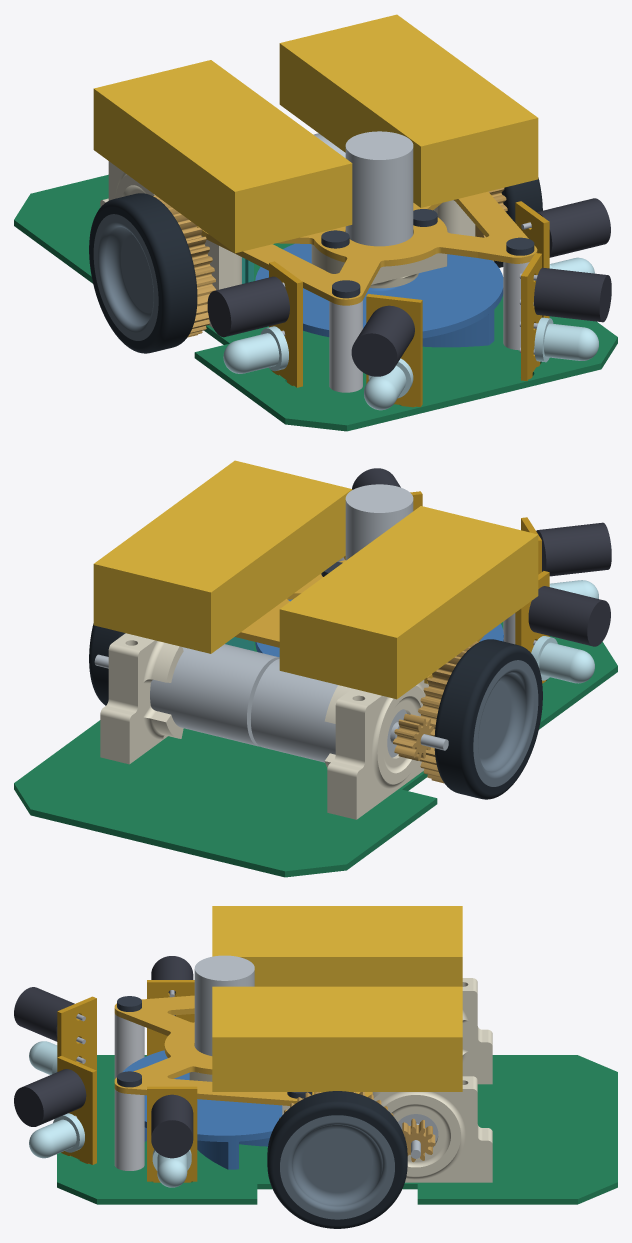
The model's file is assembly-a08.glb.
The picture shows the model from 3 angles, top to bottom: view 1: azimuth 30°, elevation 25°; view 2: azimuth 150°, elevation 25°; view 3: azimuth 270°, elevation 25°; orthographic projection. The views are drawn at different scales.
Parts seen in each view (by area): view 1: 064_battery, 065_battery, 063_pcb, upper_plate, 062_fan, 003_tire, 060_fan_motor, 002_wheel, side_left_ir_receiver, front_right_ir_receiver, front_left_ir_receiver, side_right_ir_receiver (+14 smaller); view 2: 063_pcb, 064_battery, 065_battery, 027_mount, 030_motor, 003_tire, 059_mount, 000_motor, 002_wheel, side_left_ir_receiver, 060_fan_motor, front_left_ir_receiver (+7 smaller); view 3: 063_pcb, 065_battery, 064_battery, 032_wheel, 059_mount, 033_tire, upper_plate, 062_fan, 060_fan_motor, front_right_ir_receiver, 027_mount, side_right_ir_receiver (+13 smaller).
Boxes of the visible parts, x1,y1,x2,y2 form: 064_battery: (93,60,352,253); 065_battery: (279,14,538,207); 063_pcb: (14,174,617,431); upper_plate: (197,191,537,305); 062_fan: (255,243,503,347); 003_tire: (89,193,197,353); 060_fan_motor: (345,131,413,246); 002_wheel: (93,214,158,340); side_left_ir_receiver: (207,276,289,337); front_right_ir_receiver: (534,267,611,322); front_left_ir_receiver: (351,305,414,376); side_right_ir_receiver: (537,198,610,257); 063_pcb: (14,622,617,877); 064_battery: (279,506,538,699); 065_battery: (93,460,352,653); 027_mount: (324,680,428,819); 030_motor: (94,644,279,746); 003_tire: (434,639,542,799); 059_mount: (100,633,183,764); 000_motor: (251,659,448,762); 002_wheel: (473,660,538,786); side_left_ir_receiver: (528,586,610,646); 060_fan_motor: (345,484,413,560); front_left_ir_receiver: (536,522,611,576); 063_pcb: (57,1055,617,1204); 065_battery: (212,986,462,1091); 064_battery: (212,906,462,986); 032_wheel: (280,1115,394,1219); 059_mount: (282,1076,492,1182); 033_tire: (267,1091,407,1228); upper_plate: (114,995,372,1105); 062_fan: (122,1050,282,1169); 060_fan_motor: (194,955,254,1055); front_right_ir_receiver: (14,1069,86,1126); 027_mount: (462,978,492,1084); side_right_ir_receiver: (151,1094,193,1158).
Size of the model in its own units: 38.8 by 19.88 by 60.29.
